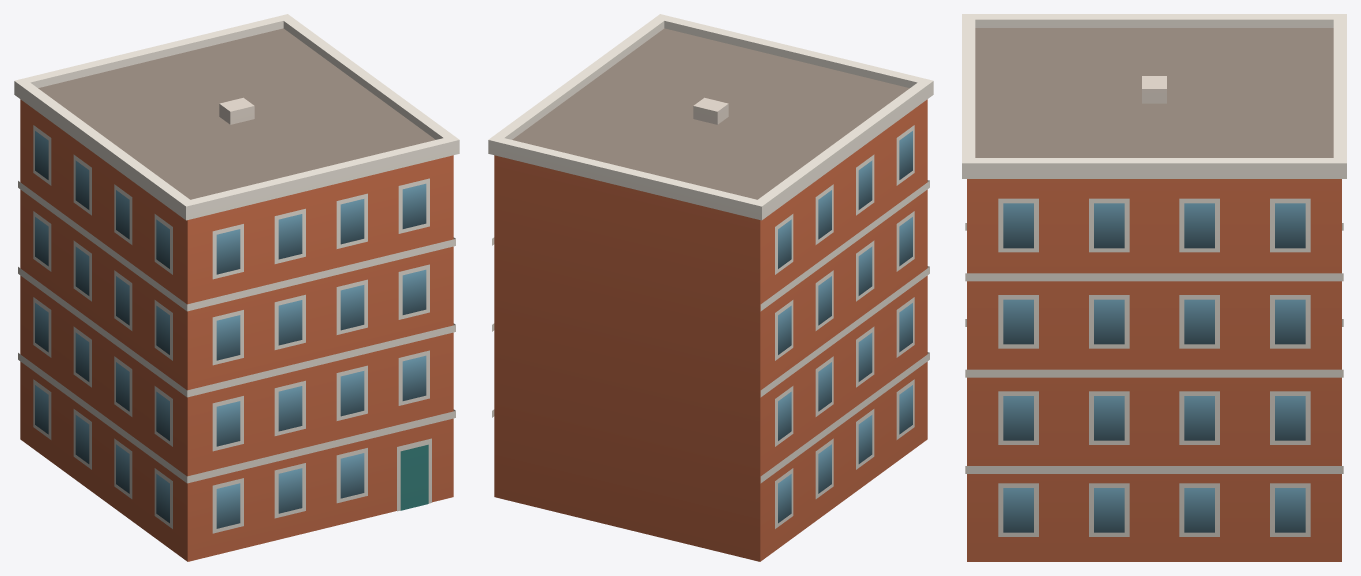
File: vee_rightb3_far.glb
The picture shows the model from 3 angles, left to right: view 1: azimuth 30°, elevation 25°; view 2: azimuth 150°, elevation 25°; view 3: azimuth 270°, elevation 25°; orthographic projection. The views are drawn at different scales.
Parts seen in each view (by area): view 1: vee_rightb3_far; view 2: vee_rightb3_far; view 3: vee_rightb3_far.
Part boxes in pixels (bbox=[...]): vee_rightb3_far: bbox=[14, 14, 459, 561]; vee_rightb3_far: bbox=[488, 14, 933, 561]; vee_rightb3_far: bbox=[962, 14, 1346, 561].
Size of the model in its own units: 11.32 by 14.37 by 12.32.
Materials: 1 (1 with a texture image).
